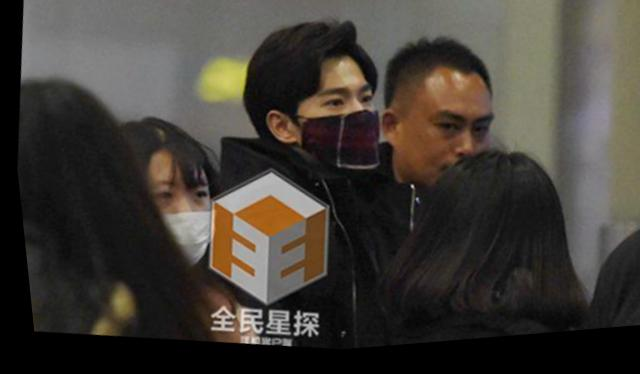NONE: (393, 85, 502, 211)
OK: (284, 64, 393, 191)
WRONG: (119, 157, 221, 278)
